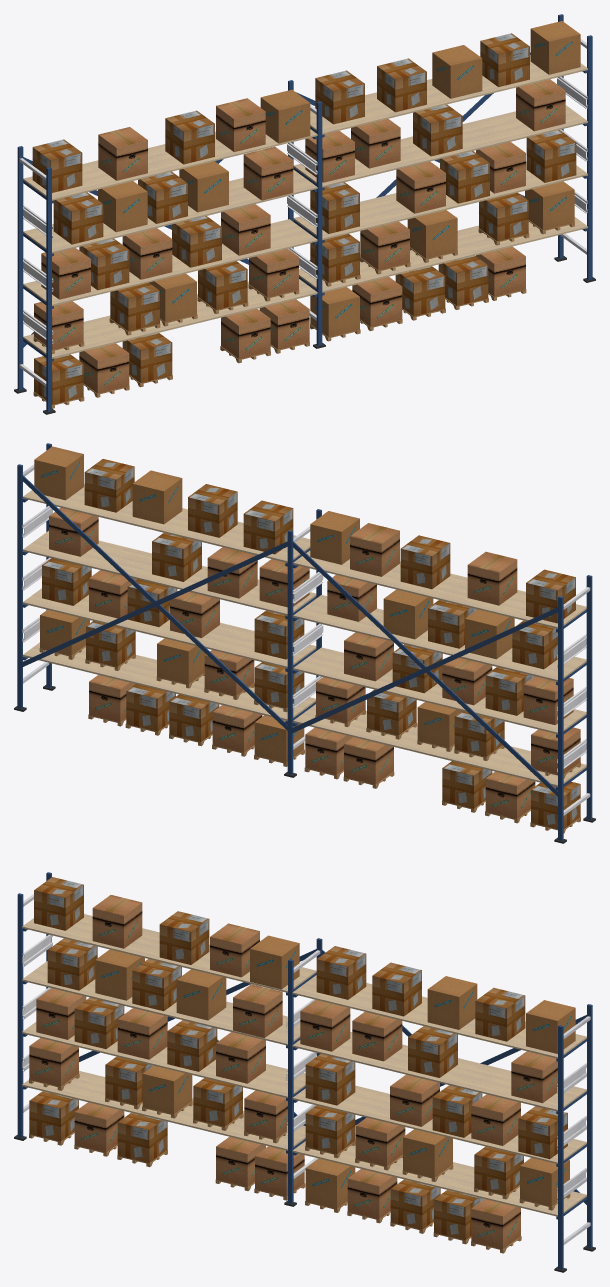
The model's file is BigShelves02Group2.FBX.
The picture shows the model from 3 angles, top to bottom: view 1: azimuth 30°, elevation 25°; view 2: azimuth 150°, elevation 25°; view 3: azimuth 330°, elevation 25°; orthographic projection.
Visible parts, largest first — view 1: Cardboard_box08, Cardboard_box07, BigShelves02, BigShelvesWoodBox; view 2: Cardboard_box08, BigShelves02, Cardboard_box07, BigShelvesWoodBox; view 3: Cardboard_box08, Cardboard_box07, BigShelves02, BigShelvesWoodBox.
Part boxes in pixels (box(x1,y1,x2,y2)): Cardboard_box08: box(34, 21, 580, 393); Cardboard_box07: box(32, 33, 576, 404); BigShelves02: box(14, 14, 595, 414); BigShelvesWoodBox: box(33, 220, 574, 408); Cardboard_box08: box(34, 446, 580, 818); BigShelves02: box(14, 443, 595, 843); Cardboard_box07: box(42, 459, 580, 828); BigShelvesWoodBox: box(39, 645, 580, 833); Cardboard_box08: box(29, 895, 575, 1249); Cardboard_box07: box(29, 877, 567, 1240); BigShelves02: box(14, 872, 595, 1272); BigShelvesWoodBox: box(29, 1073, 570, 1253).
Size of the model in its own units: 699 by 299 by 71.33.
